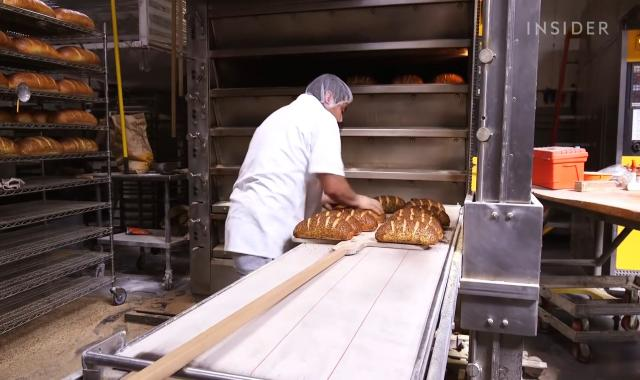hairnet: (307, 71, 353, 105)
